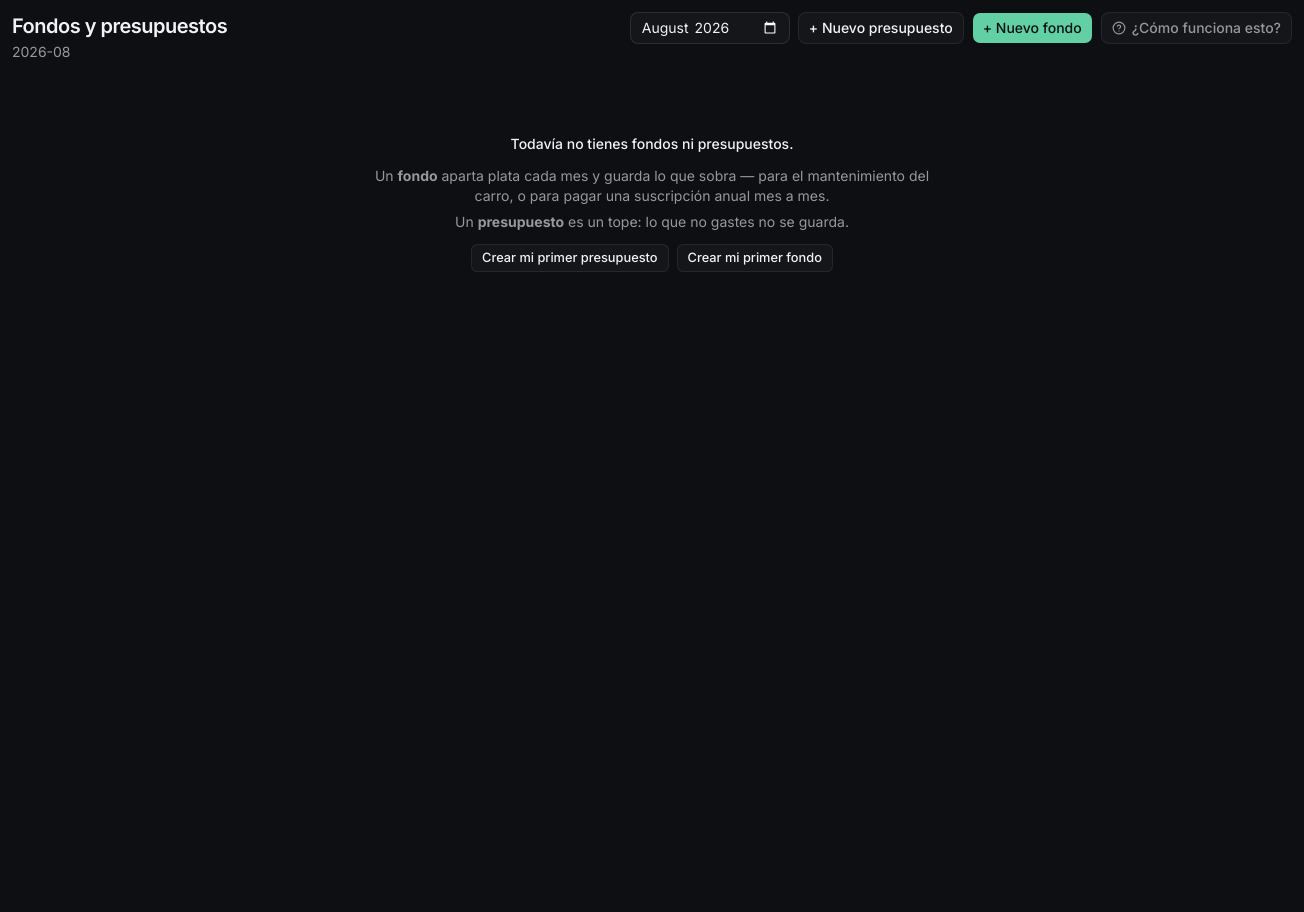
AC-5 — the rule picker names the job and carries a worked number › The averaging rule works its figure from what the category cost
Click the button "+ Nuevo fondo" at (1032,28), box [972, 12, 1093, 44]
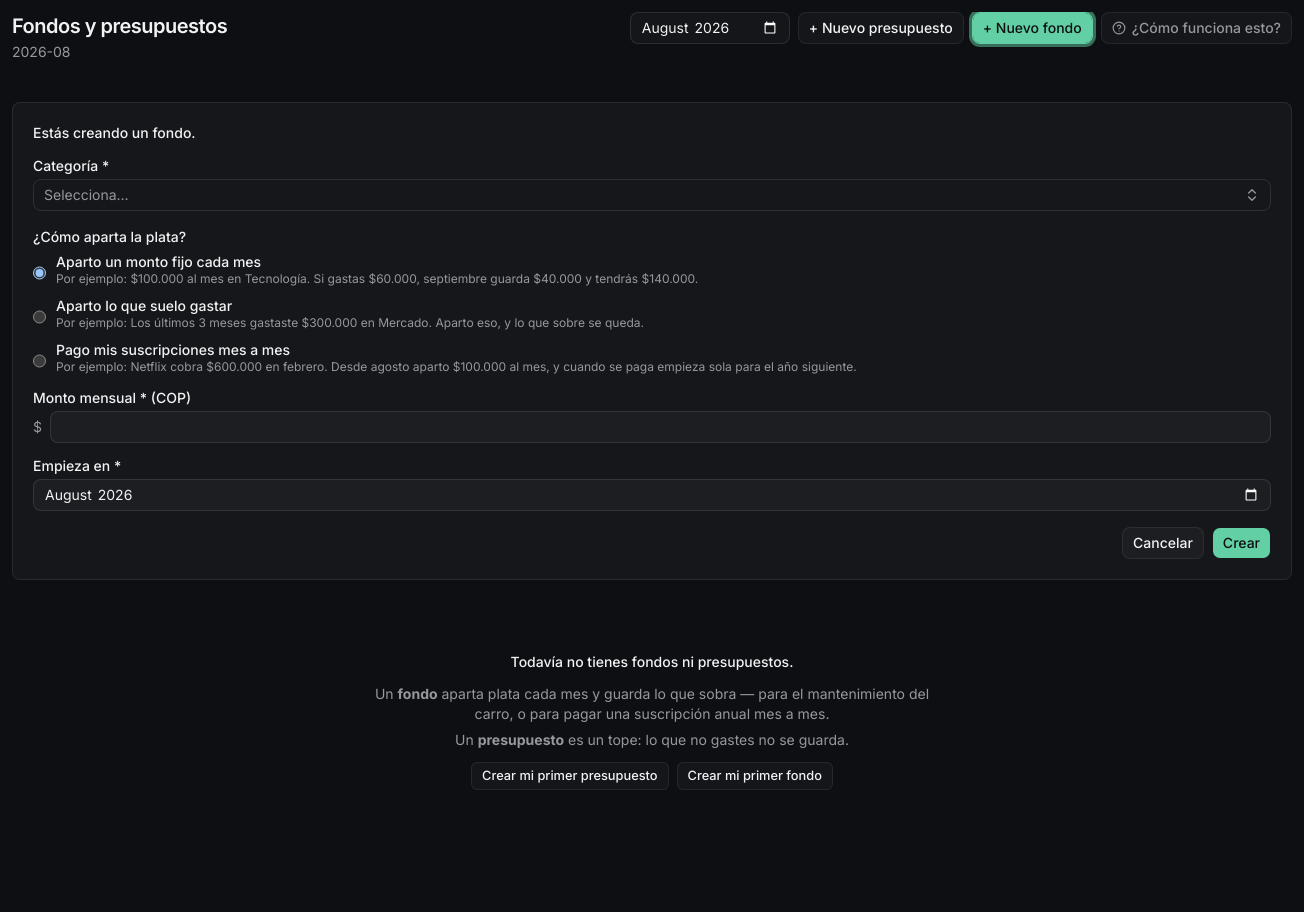
Click the dropdown named "Categoría *" at (86,194), box [33, 179, 1271, 211]
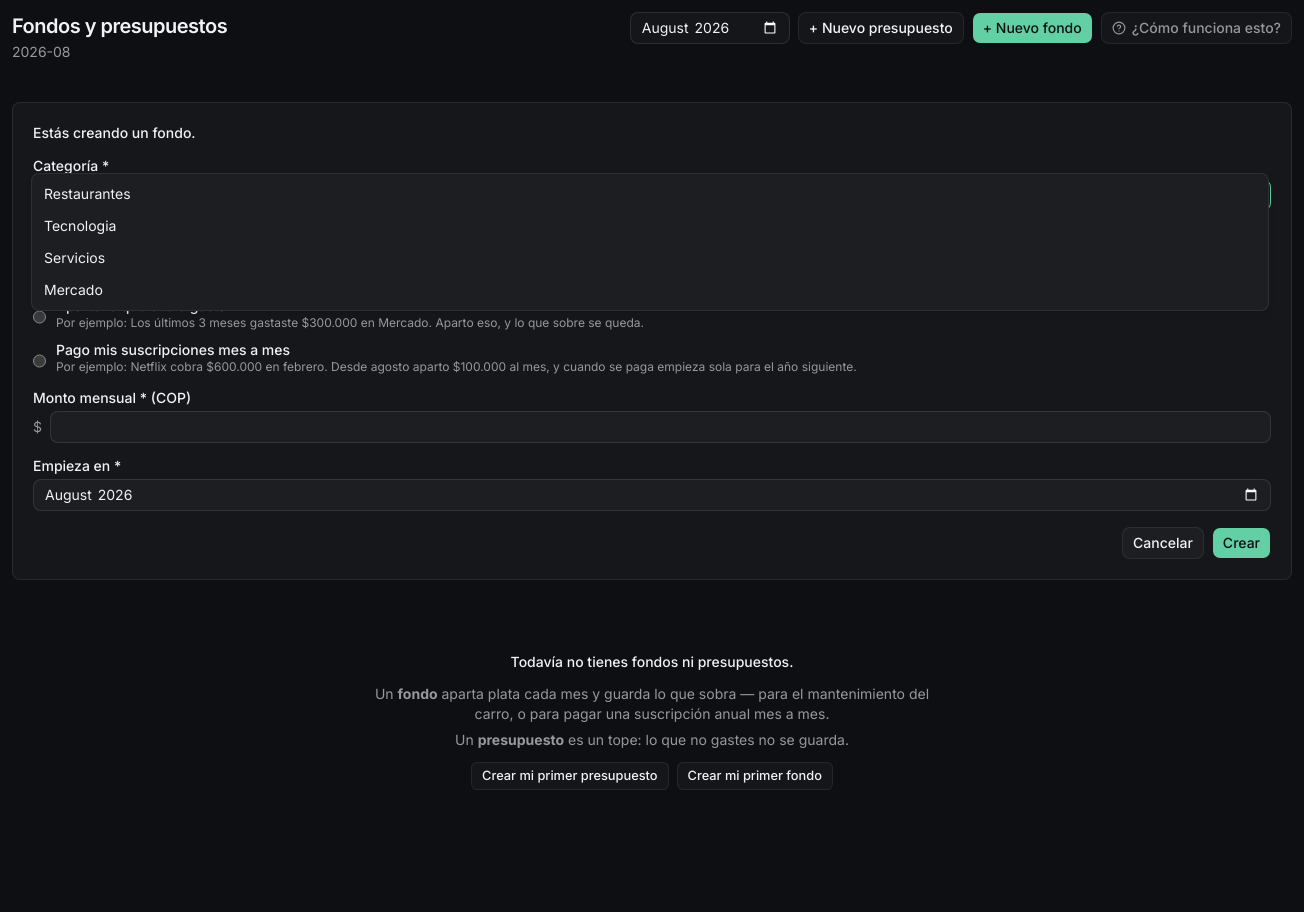
Click the option "Restaurantes" at (87,194), box [36, 178, 1264, 210]
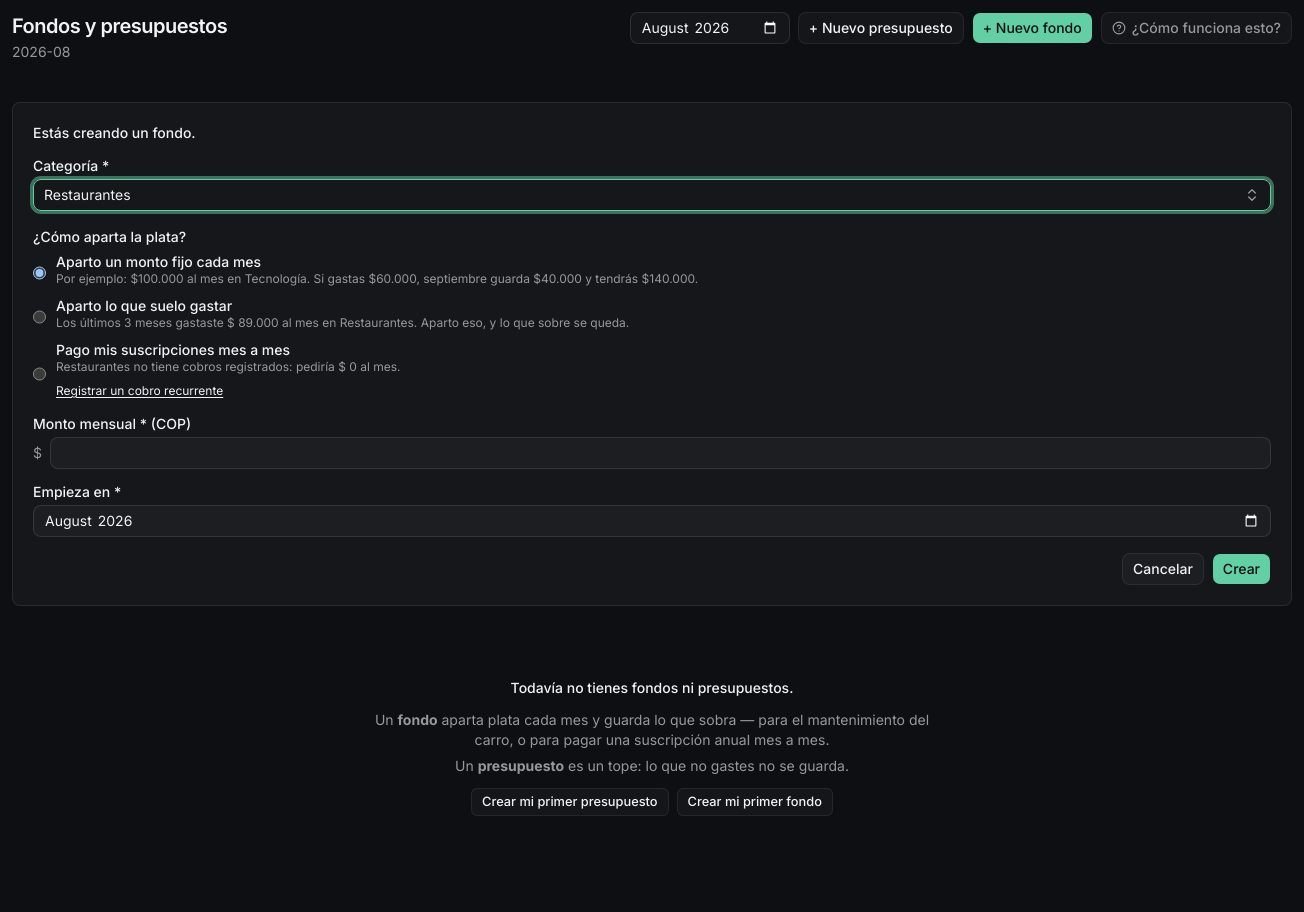
Check: the text "Los últimos 3 meses gastaste $ 89.000 al mes en Restaurantes. Aparto eso, y lo que sobre se queda." is shown, box [56, 315, 629, 330]
